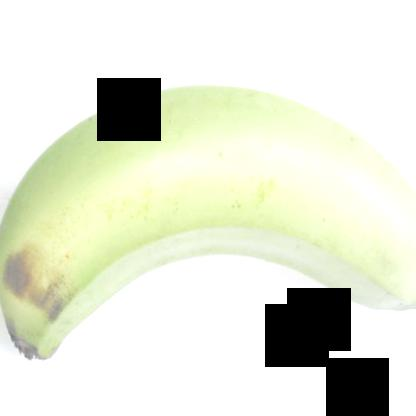freshunripe: (1, 68, 415, 392)
